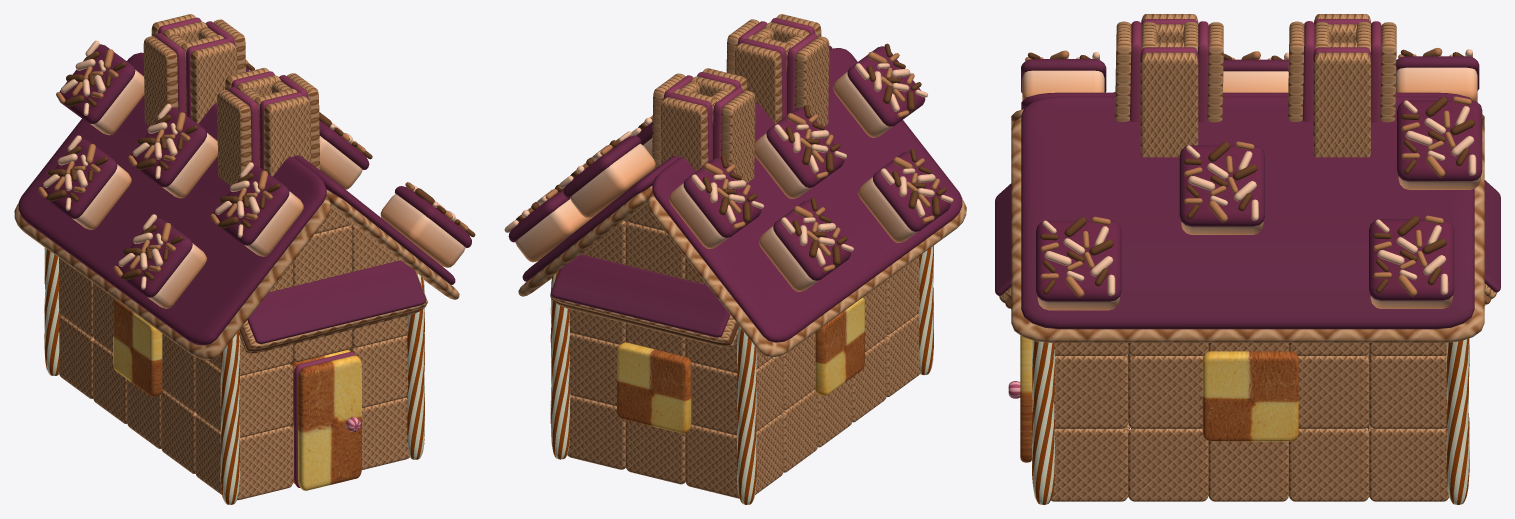
File: cw_house_5.fbx
The picture shows the model from 3 angles, left to right: view 1: azimuth 30°, elevation 25°; view 2: azimuth 150°, elevation 25°; view 3: azimuth 270°, elevation 25°; orthographic projection. The views are drawn at different scales.
Visible parts, largest first — view 1: cw_house_5; view 2: cw_house_5; view 3: cw_house_5.
Boxes of the visible parts, x1,y1,x2,y2 form: cw_house_5: (14, 14, 475, 504); cw_house_5: (504, 14, 966, 504); cw_house_5: (995, 14, 1500, 504).
Bounding box in the file's own units: 565 × 620 × 680.
